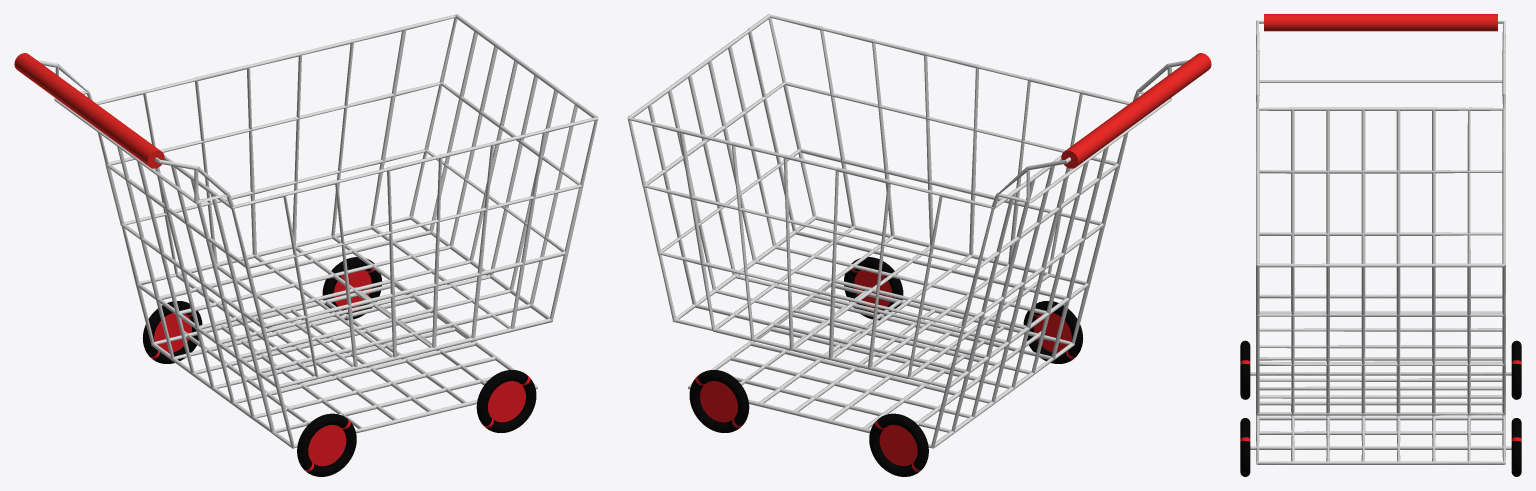
The model's file is shopping_cart.fbx.
The picture shows the model from 3 angles, left to right: view 1: azimuth 30°, elevation 25°; view 2: azimuth 150°, elevation 25°; view 3: azimuth 270°, elevation 25°; orthographic projection. The views are drawn at different scales.
Parts seen in each view (by area): view 1: ShoppingCart, Handlebar, Wheel.002, Wheel.003, Wheel.001, Wheel; view 2: ShoppingCart, Handlebar, Wheel.001, Wheel, Wheel.002, Wheel.003; view 3: ShoppingCart, Handlebar, Wheel.001, Wheel.002, Wheel, Wheel.003.
Part boxes in pixels (x1,y1,x2,y2): ShoppingCart: (37, 14, 598, 448); Handlebar: (14, 53, 164, 168); Wheel.002: (297, 413, 356, 476); Wheel.003: (476, 370, 536, 432); Wheel.001: (142, 301, 202, 363); Wheel: (322, 257, 381, 320); ShoppingCart: (627, 14, 1188, 448); Handlebar: (1061, 53, 1211, 168); Wheel.001: (869, 413, 928, 476); Wheel: (689, 370, 749, 432); Wheel.002: (1023, 301, 1083, 363); Wheel.003: (844, 257, 903, 320); ShoppingCart: (1250, 20, 1511, 464); Handlebar: (1264, 14, 1497, 31); Wheel.001: (1511, 340, 1521, 399); Wheel.002: (1240, 340, 1250, 399); Wheel: (1511, 418, 1521, 476); Wheel.003: (1240, 418, 1250, 476).
Size of the model in its own units: 129 by 98.2 by 79.8.
